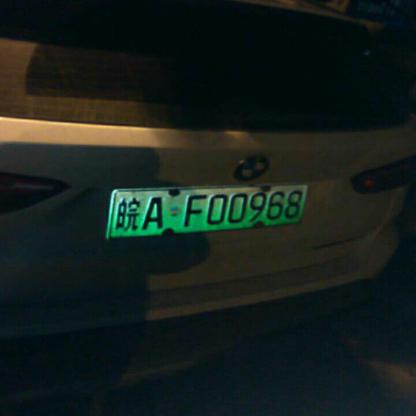lp: (107, 182, 308, 236)
